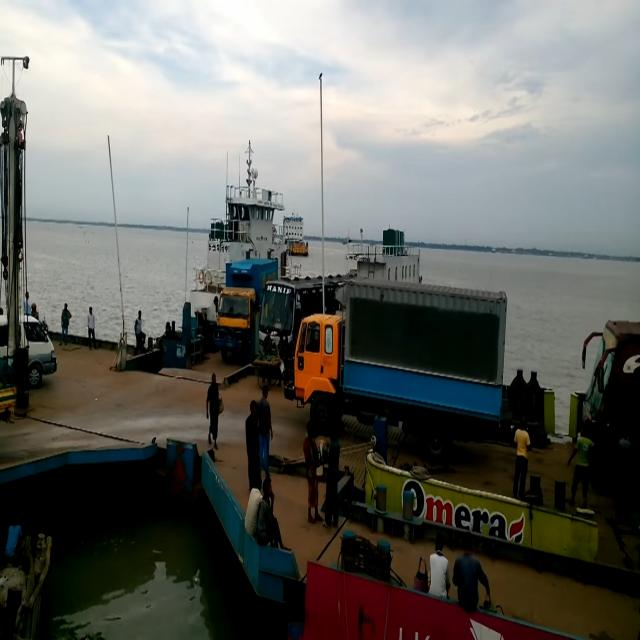bus: (260, 271, 315, 373)
microbus: (0, 297, 61, 395)
truck: (295, 272, 508, 423), (208, 251, 264, 363)
